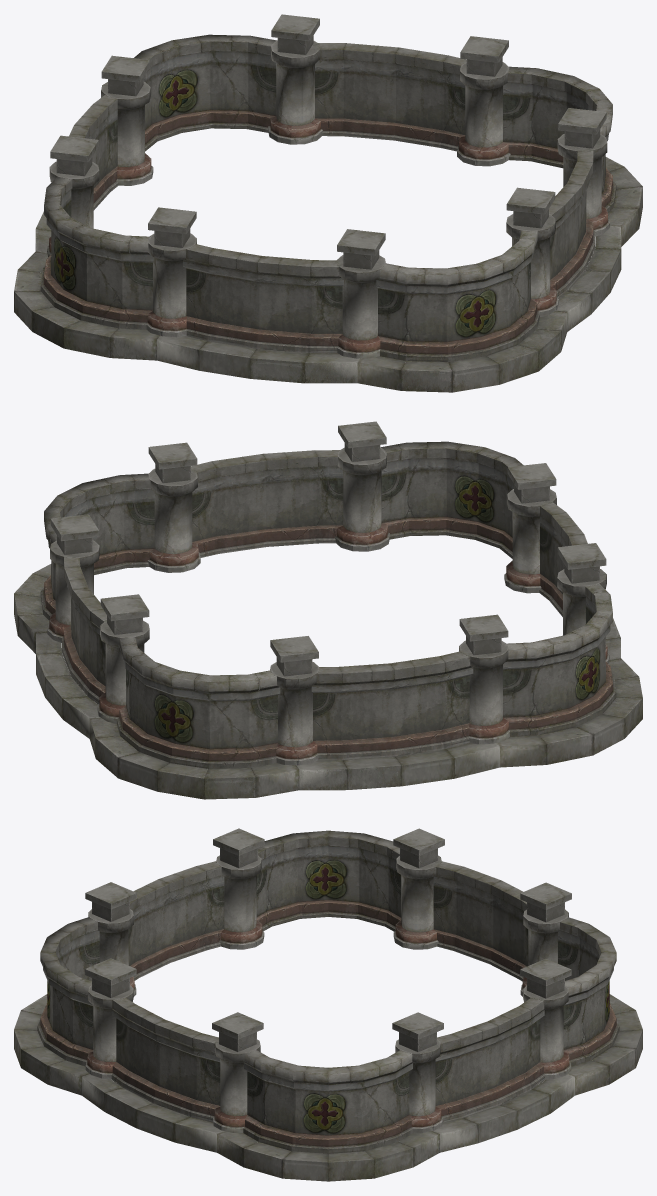
Rendered from bg_anh_etc_ft01_01_sm_old.FBX.
3 renders of one model, top to bottom at view 1: azimuth 30°, elevation 25°; view 2: azimuth 150°, elevation 25°; view 3: azimuth 270°, elevation 25°, orthographic. The views are drawn at different scales.
Visible parts, largest first — view 1: bg_anh_etc_ft01_01_sm_old; view 2: bg_anh_etc_ft01_01_sm_old; view 3: bg_anh_etc_ft01_01_sm_old.
Part boxes in pixels (box(x1,y1,x2,y2)): bg_anh_etc_ft01_01_sm_old: box(14, 14, 642, 392); bg_anh_etc_ft01_01_sm_old: box(14, 421, 642, 799); bg_anh_etc_ft01_01_sm_old: box(14, 828, 642, 1181).
Size of the model in its own units: 632 by 130 by 632.
